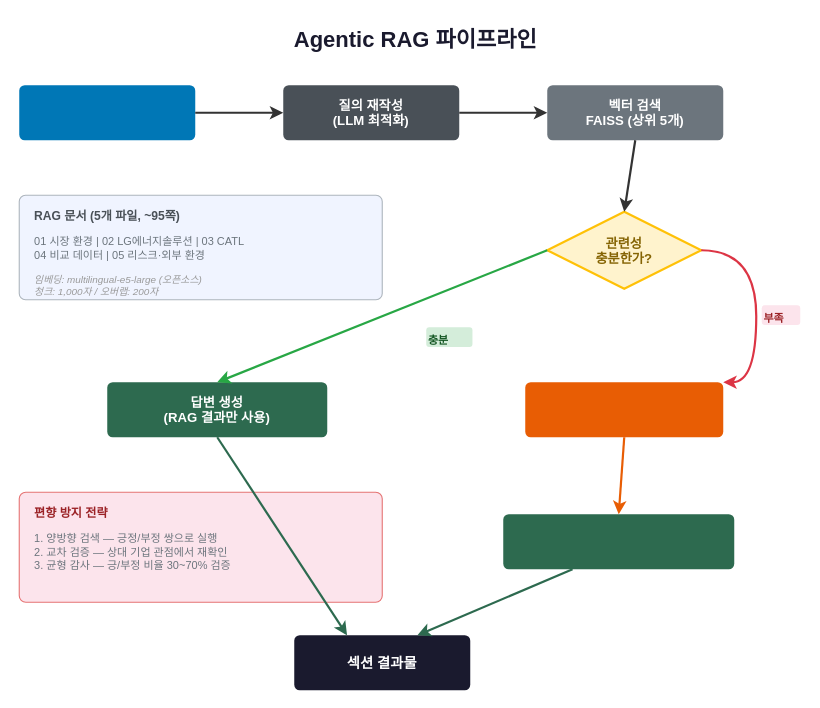
Image size: 820x708. Some labels were removed from this diagram. The centre of each missing label's shape, as x and y in pixels:
답변 생성 (RAG + 웹 결과 통합): point 618,541
에이전트 질의: point 107,112
웹 검색 보완 (Serper.dev): point 624,409
